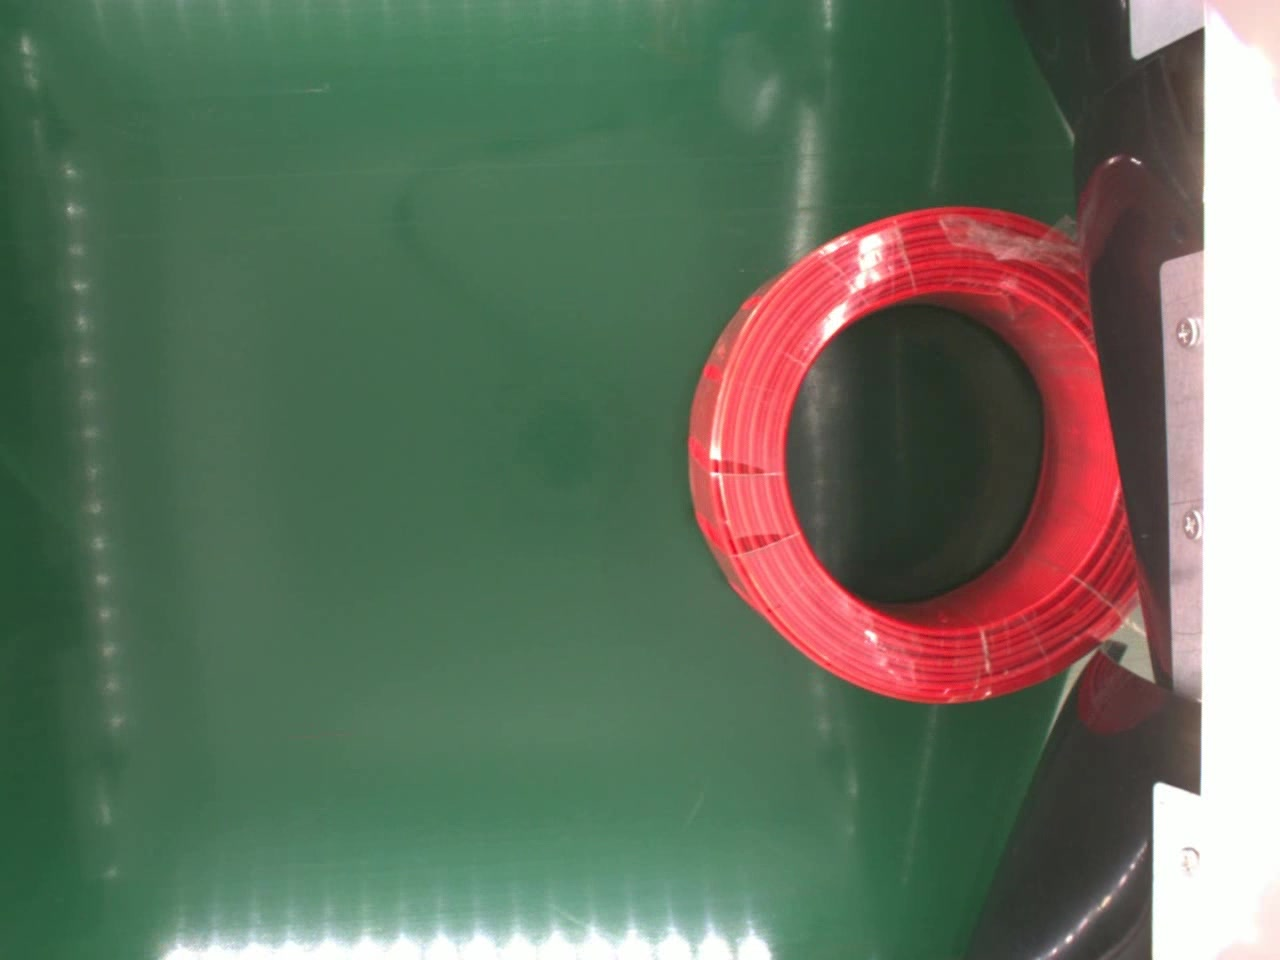red: (685, 205, 1140, 711)
